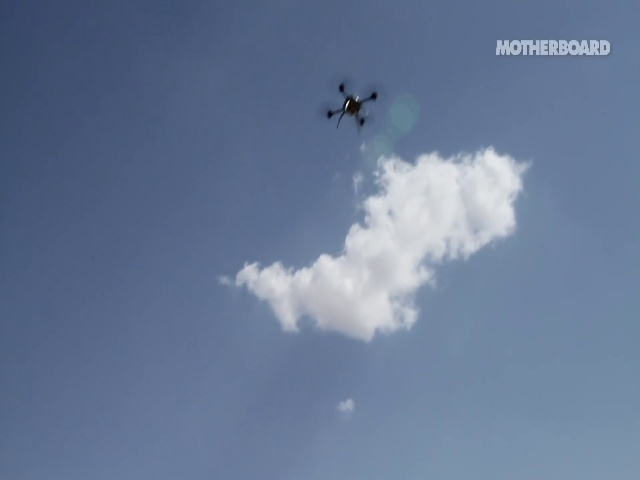drone: (316, 72, 386, 136)
